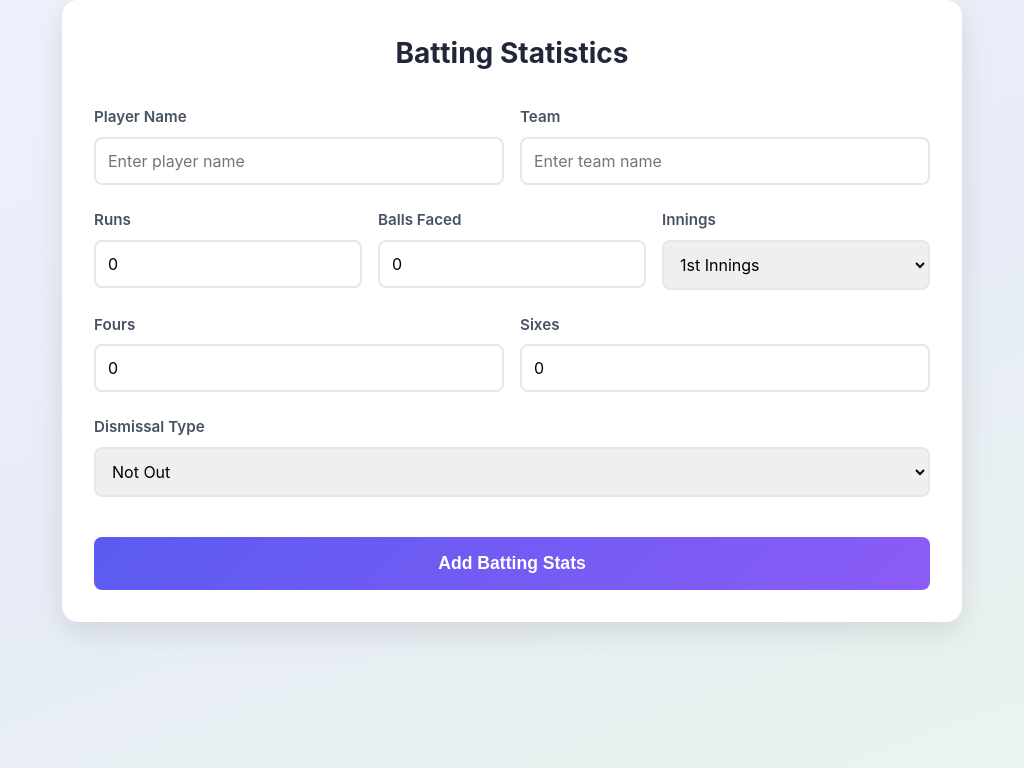
it: BattingStats input handling › shows bowler field when dismissal type is Bowled
Select "Bowled" in the dropdown labelled "Dismissal Type" at (512, 472), box [94,447,930,497]
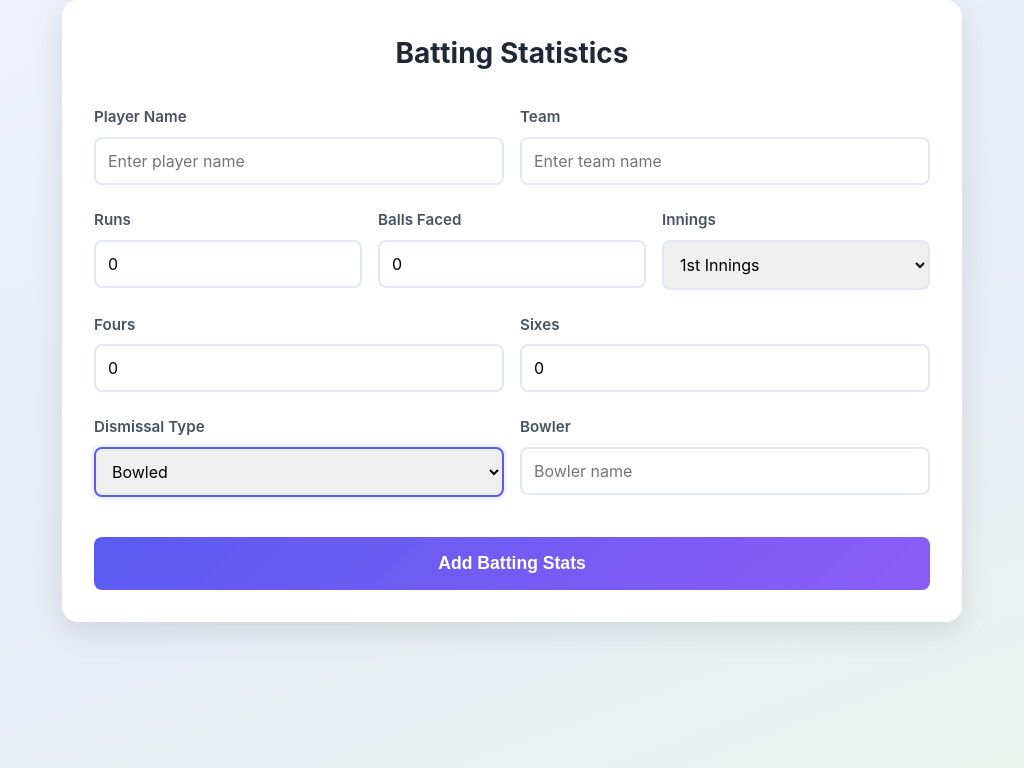
Check: the field labelled "Bowler" is shown, box [520,447,930,495]
